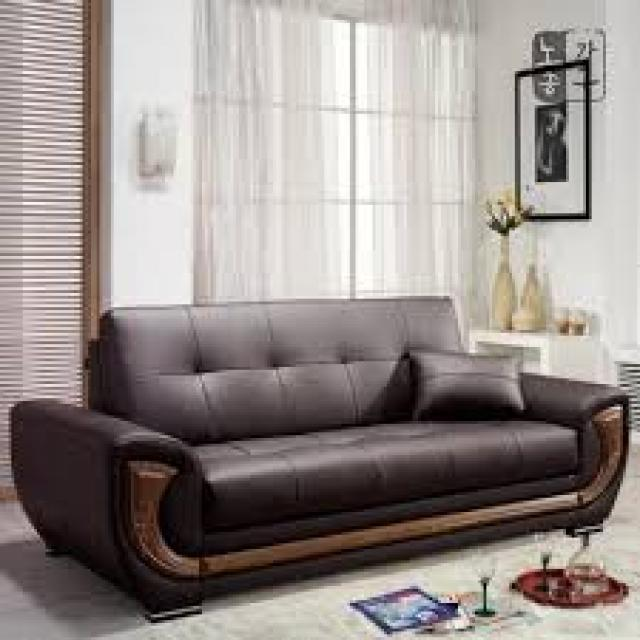Sofa: (4, 277, 640, 629)
